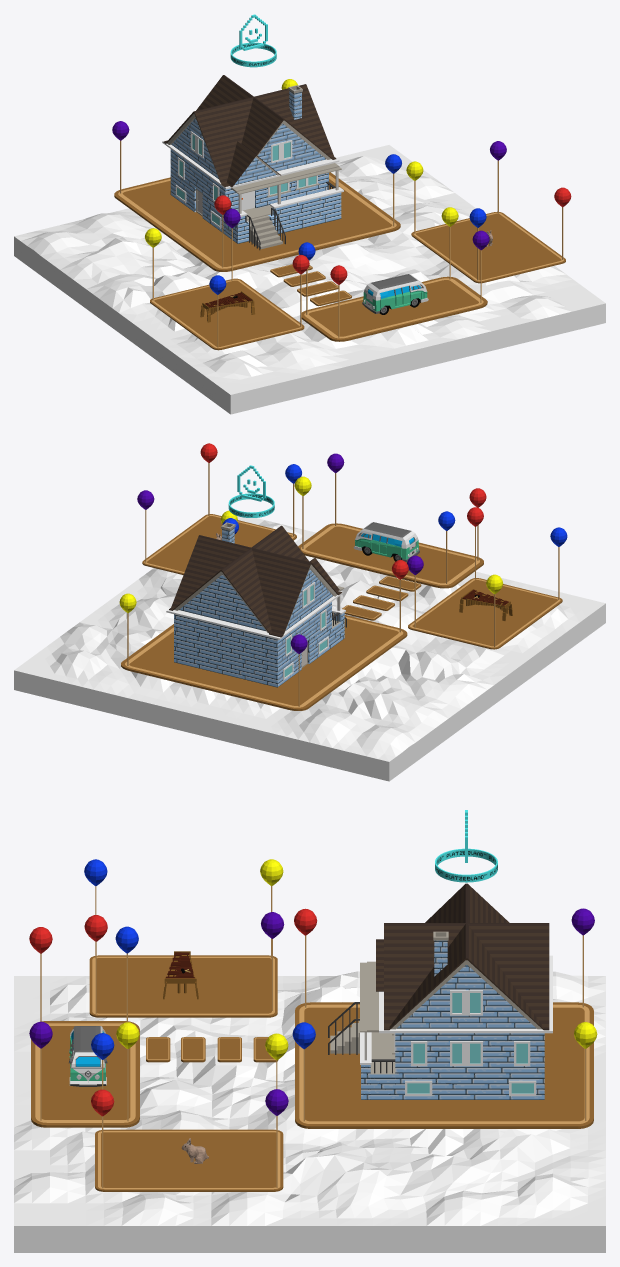
3 views of the same model, one above another, from view 1: azimuth 30°, elevation 25°; view 2: azimuth 150°, elevation 25°; view 3: azimuth 270°, elevation 25° (orthographic). The views are drawn at different scales.
Visible parts, largest first — view 1: Cube.013, Cube.547, VEHICLES_VAN, TYPE_PREMIUM, OBJRANDOM_MARIMBA; view 2: Cube.013, Cube.547, VEHICLES_VAN, TYPE_PREMIUM, OBJRANDOM_MARIMBA; view 3: Cube.013, Cube.547, VEHICLES_VAN, TYPE_PREMIUM, OBJRANDOM_MARIMBA.
Part boxes in pixels (<box>): Cube.013: <box>14,79,605,414</box>; Cube.547: <box>162,75,343,250</box>; VEHICLES_VAN: <box>362,274,428,314</box>; TYPE_PREMIUM: <box>230,14,276,67</box>; OBJRANDOM_MARIMBA: <box>200,291,255,322</box>; Cube.013: <box>14,443,605,781</box>; Cube.547: <box>166,522,346,687</box>; VEHICLES_VAN: <box>353,522,419,562</box>; TYPE_PREMIUM: <box>228,465,274,517</box>; OBJRANDOM_MARIMBA: <box>459,589,512,620</box>; Cube.013: <box>14,859,605,1252</box>; Cube.547: <box>328,883,552,1099</box>; VEHICLES_VAN: <box>69,1026,107,1086</box>; TYPE_PREMIUM: <box>435,810,497,882</box>; OBJRANDOM_MARIMBA: <box>163,951,198,999</box>.
Bounding box in the file's own units: 4000 × 2421 × 4000.
42 materials, 3 textured.
